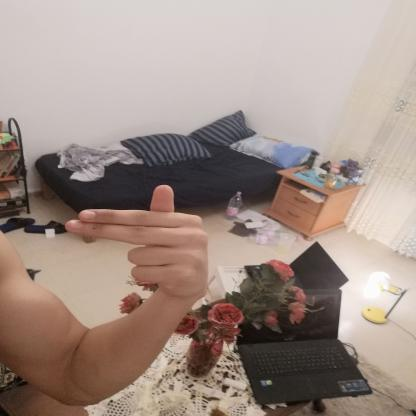GHAYN: (49, 176, 220, 312)
